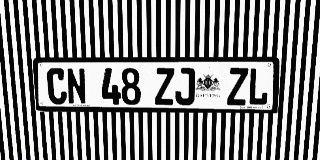4: (101, 68, 121, 105)
8: (121, 68, 141, 105)
C: (46, 68, 67, 104)
J: (175, 68, 195, 105)
L: (247, 68, 270, 105)
N: (66, 68, 87, 104)
Z: (227, 68, 248, 105), (155, 68, 174, 105)
